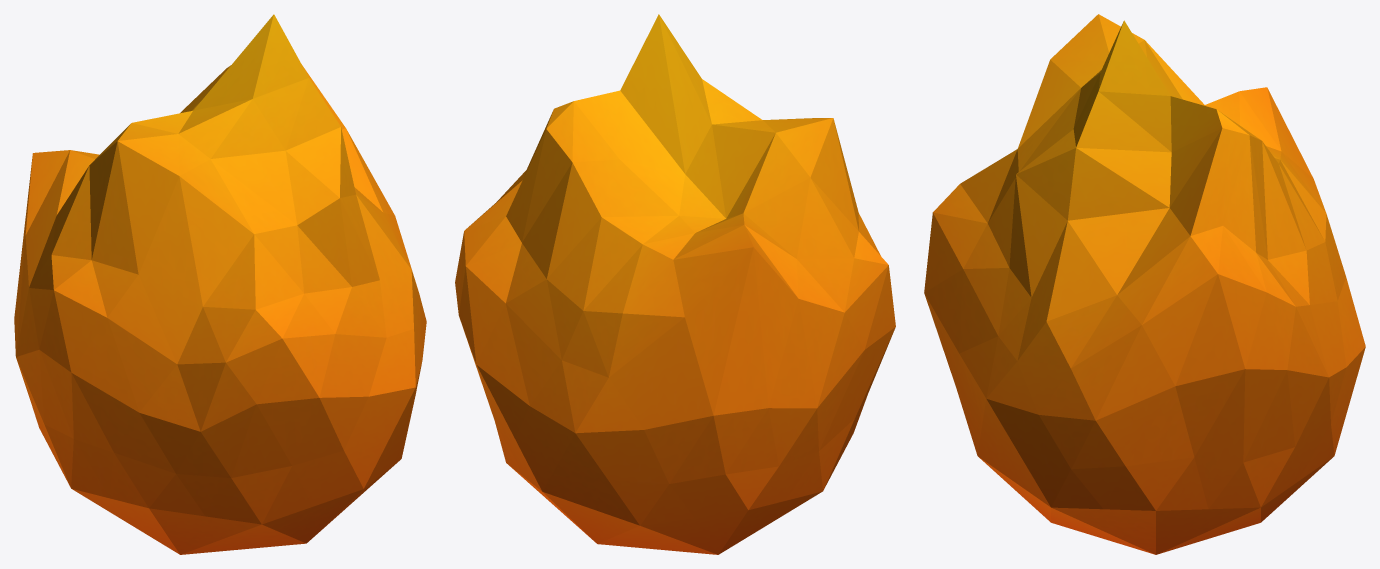
Rendered from explosion_powerup.glb.
The picture shows the model from 3 angles, left to right: view 1: azimuth 30°, elevation 25°; view 2: azimuth 150°, elevation 25°; view 3: azimuth 270°, elevation 25°; orthographic projection. The views are drawn at different scales.
Visible parts, largest first — view 1: Icosphere; view 2: Icosphere; view 3: Icosphere.
Part boxes in pixels (x1,y1,x2,y2): Icosphere: [14, 14, 426, 554]; Icosphere: [455, 14, 895, 554]; Icosphere: [924, 14, 1365, 554].
Size of the model in its own units: 0.5285 by 0.7005 by 0.5263.
1 material, 1 textured.
